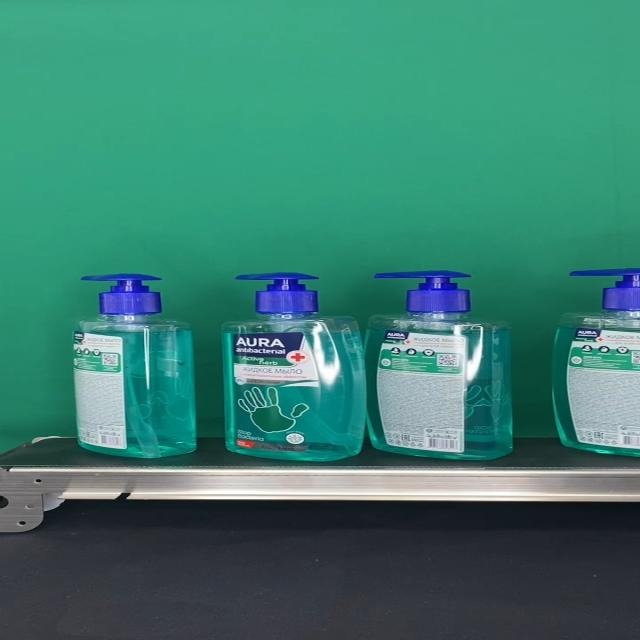Bottle: (363, 272, 514, 460), (222, 272, 366, 460), (71, 274, 197, 458)
Cap: (372, 272, 472, 314), (235, 274, 321, 315), (80, 274, 162, 314)
